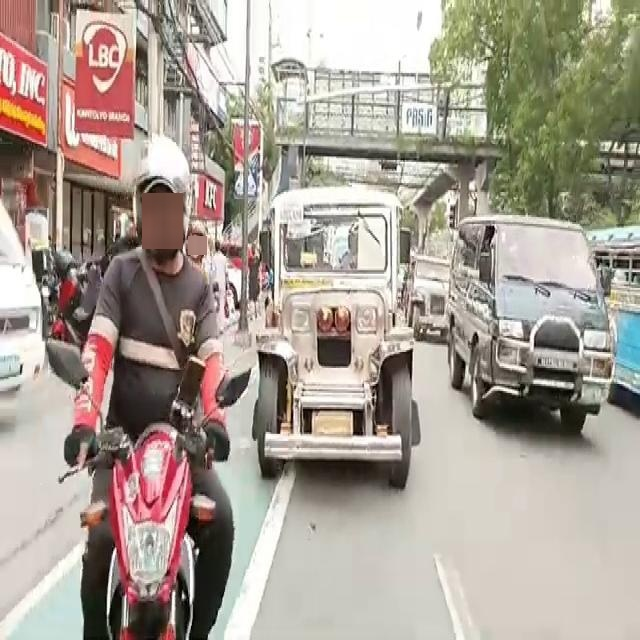car: (448, 234, 610, 440)
jeepney: (265, 198, 426, 520), (598, 224, 640, 397), (418, 251, 452, 350)
motorcycle: (84, 186, 229, 640)
